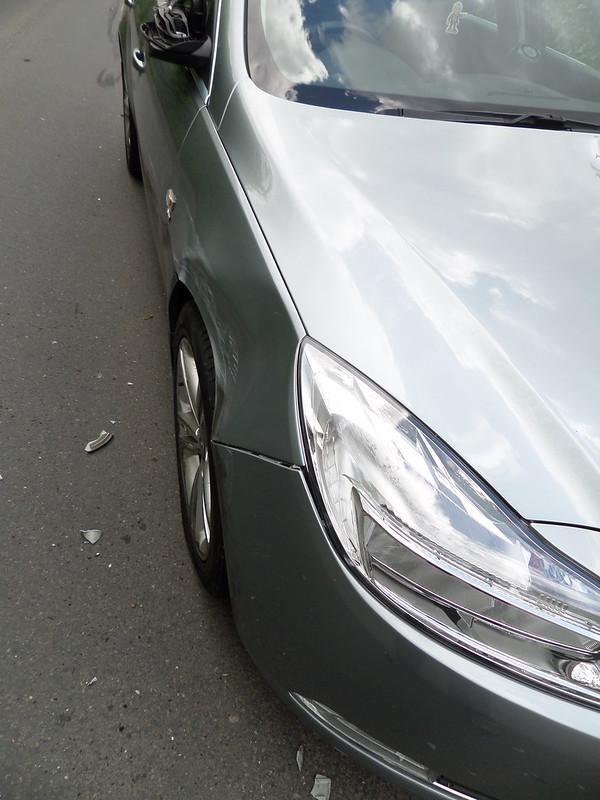fender-dent: (135, 122, 308, 470)
